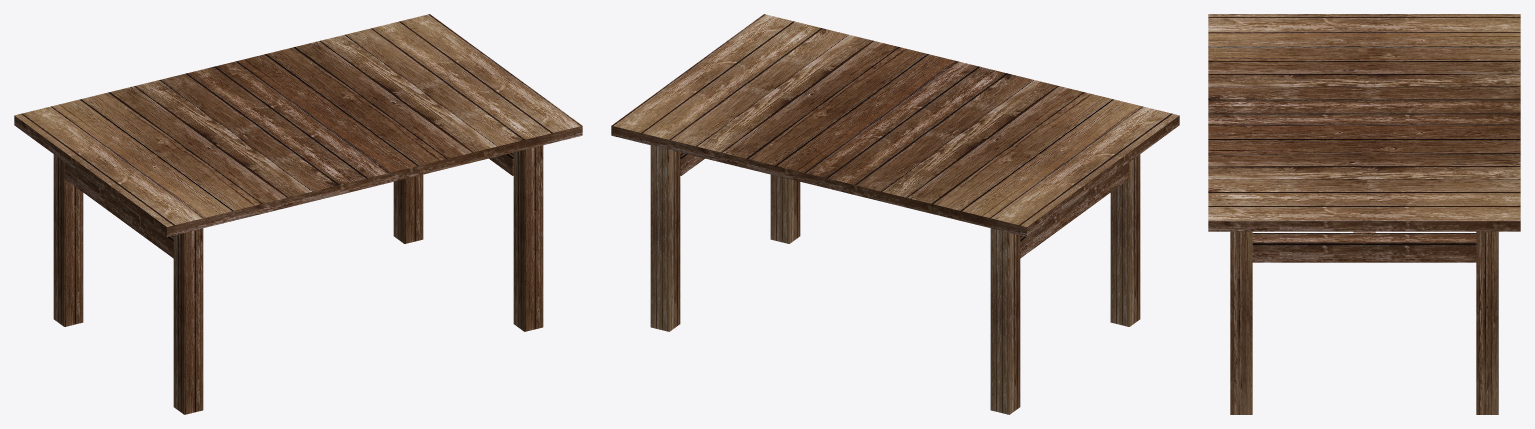
File: prop-artisan-table.glb
3 views of the same model, side by side, from view 1: azimuth 30°, elevation 25°; view 2: azimuth 150°, elevation 25°; view 3: azimuth 270°, elevation 25° (orthographic). The views are drawn at different scales.
Visible parts, largest first — view 1: Platte, Bein_3, Bein, Bein_4, Bein_2, Stütze; view 2: Platte, Bein_4, Bein_2, Bein_3, Bein, Stütze; view 3: Platte, Stütze_2, Bein, Bein_2.
Boxes of the visible parts, box(x1,y1,x2,y2) form: Platte: box(14, 14, 582, 236); Bein_3: box(173, 228, 203, 414); Bein: box(513, 145, 543, 331); Bein_4: box(53, 154, 83, 326); Bein_2: box(393, 174, 423, 243); Stütze: box(64, 162, 173, 258); Platte: box(611, 14, 1179, 236); Bein_4: box(990, 228, 1020, 414); Bein_2: box(650, 145, 680, 331); Bein_3: box(1110, 154, 1140, 326); Bein: box(770, 174, 800, 243); Stütze: box(1020, 162, 1129, 258); Platte: box(1208, 14, 1520, 231); Stütze_2: box(1252, 233, 1476, 262); Bein: box(1230, 231, 1252, 414); Bein_2: box(1476, 231, 1498, 414).
Bounding box in the file's own units: 1.67 × 0.78 × 1.07.
Materials: 2 (2 with a texture image).
